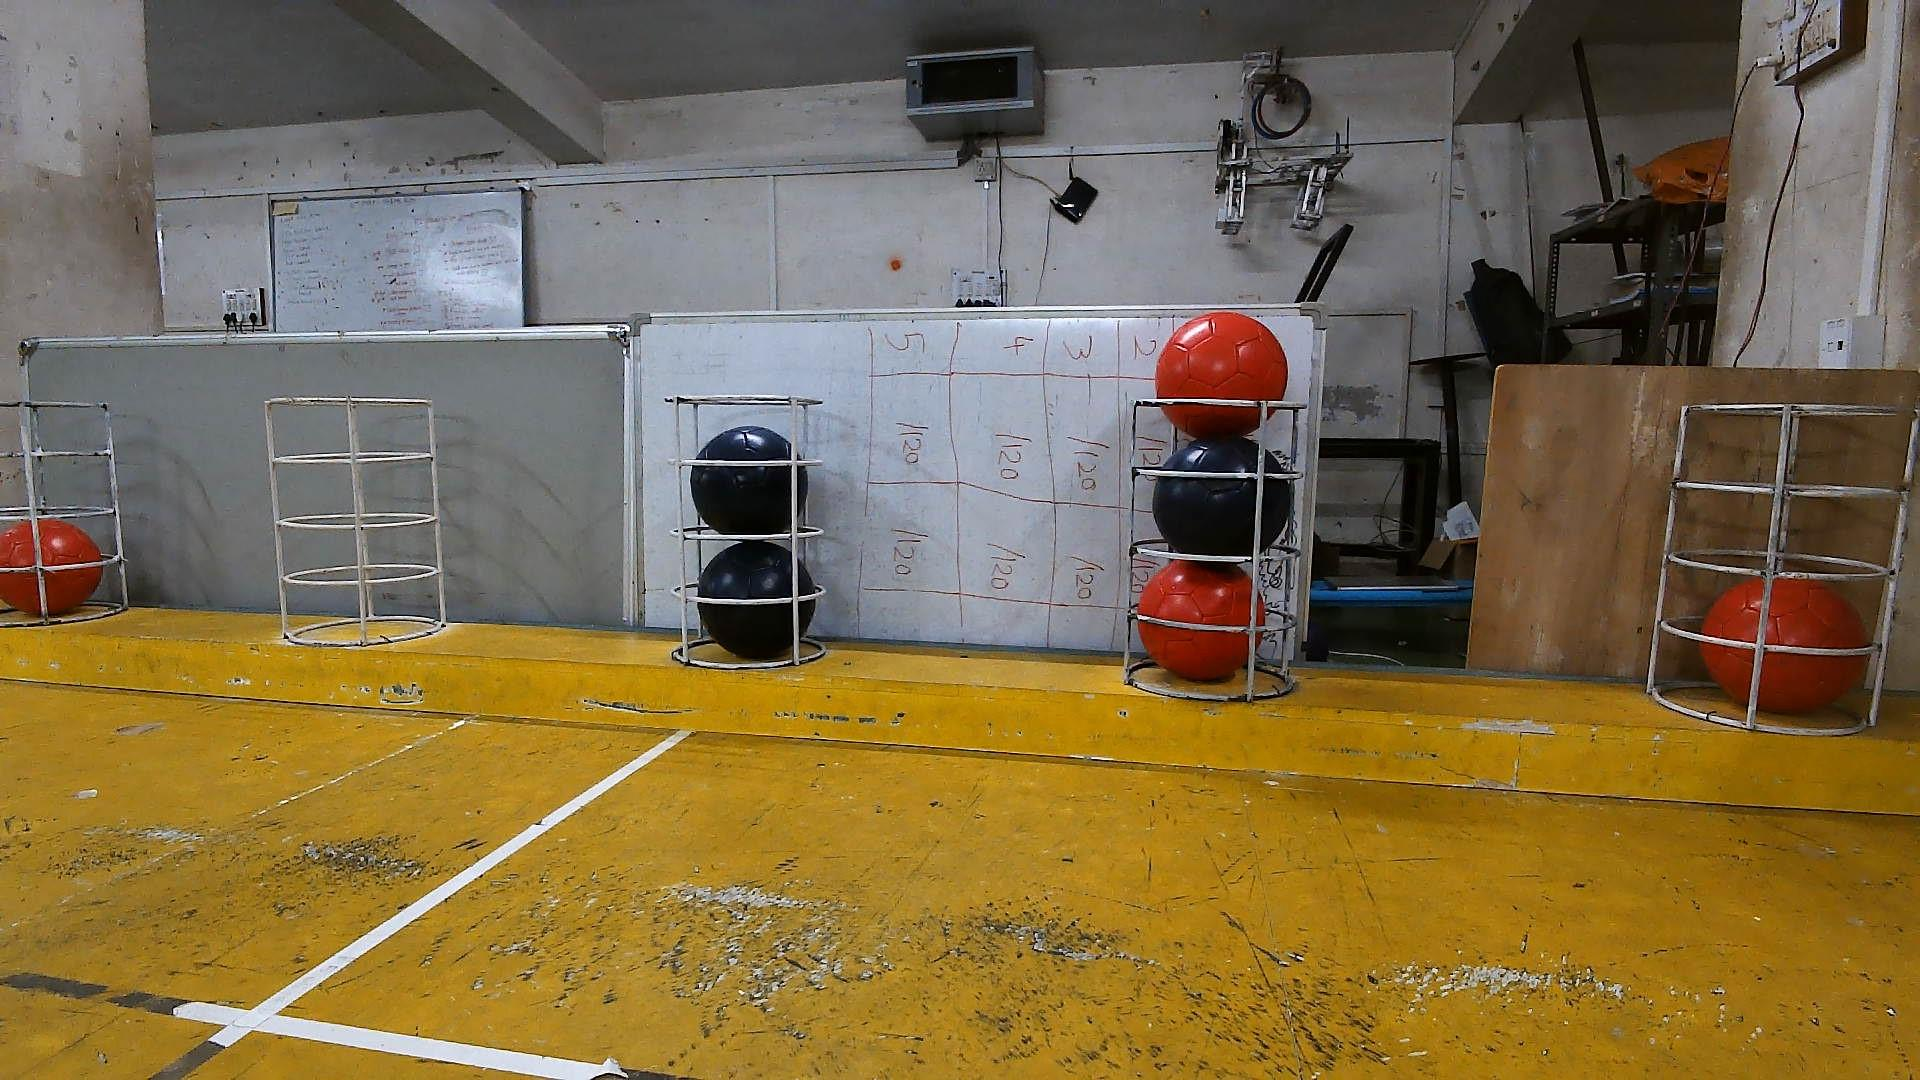dhoka: (1151, 435, 1294, 555), (698, 540, 818, 660), (690, 424, 806, 536)
laale: (1699, 578, 1868, 712), (1155, 311, 1290, 439), (1136, 559, 1268, 682), (0, 518, 105, 615)
